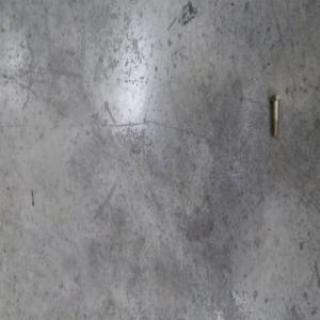Bolttrack_idkeyframe: (269, 93, 281, 138)
